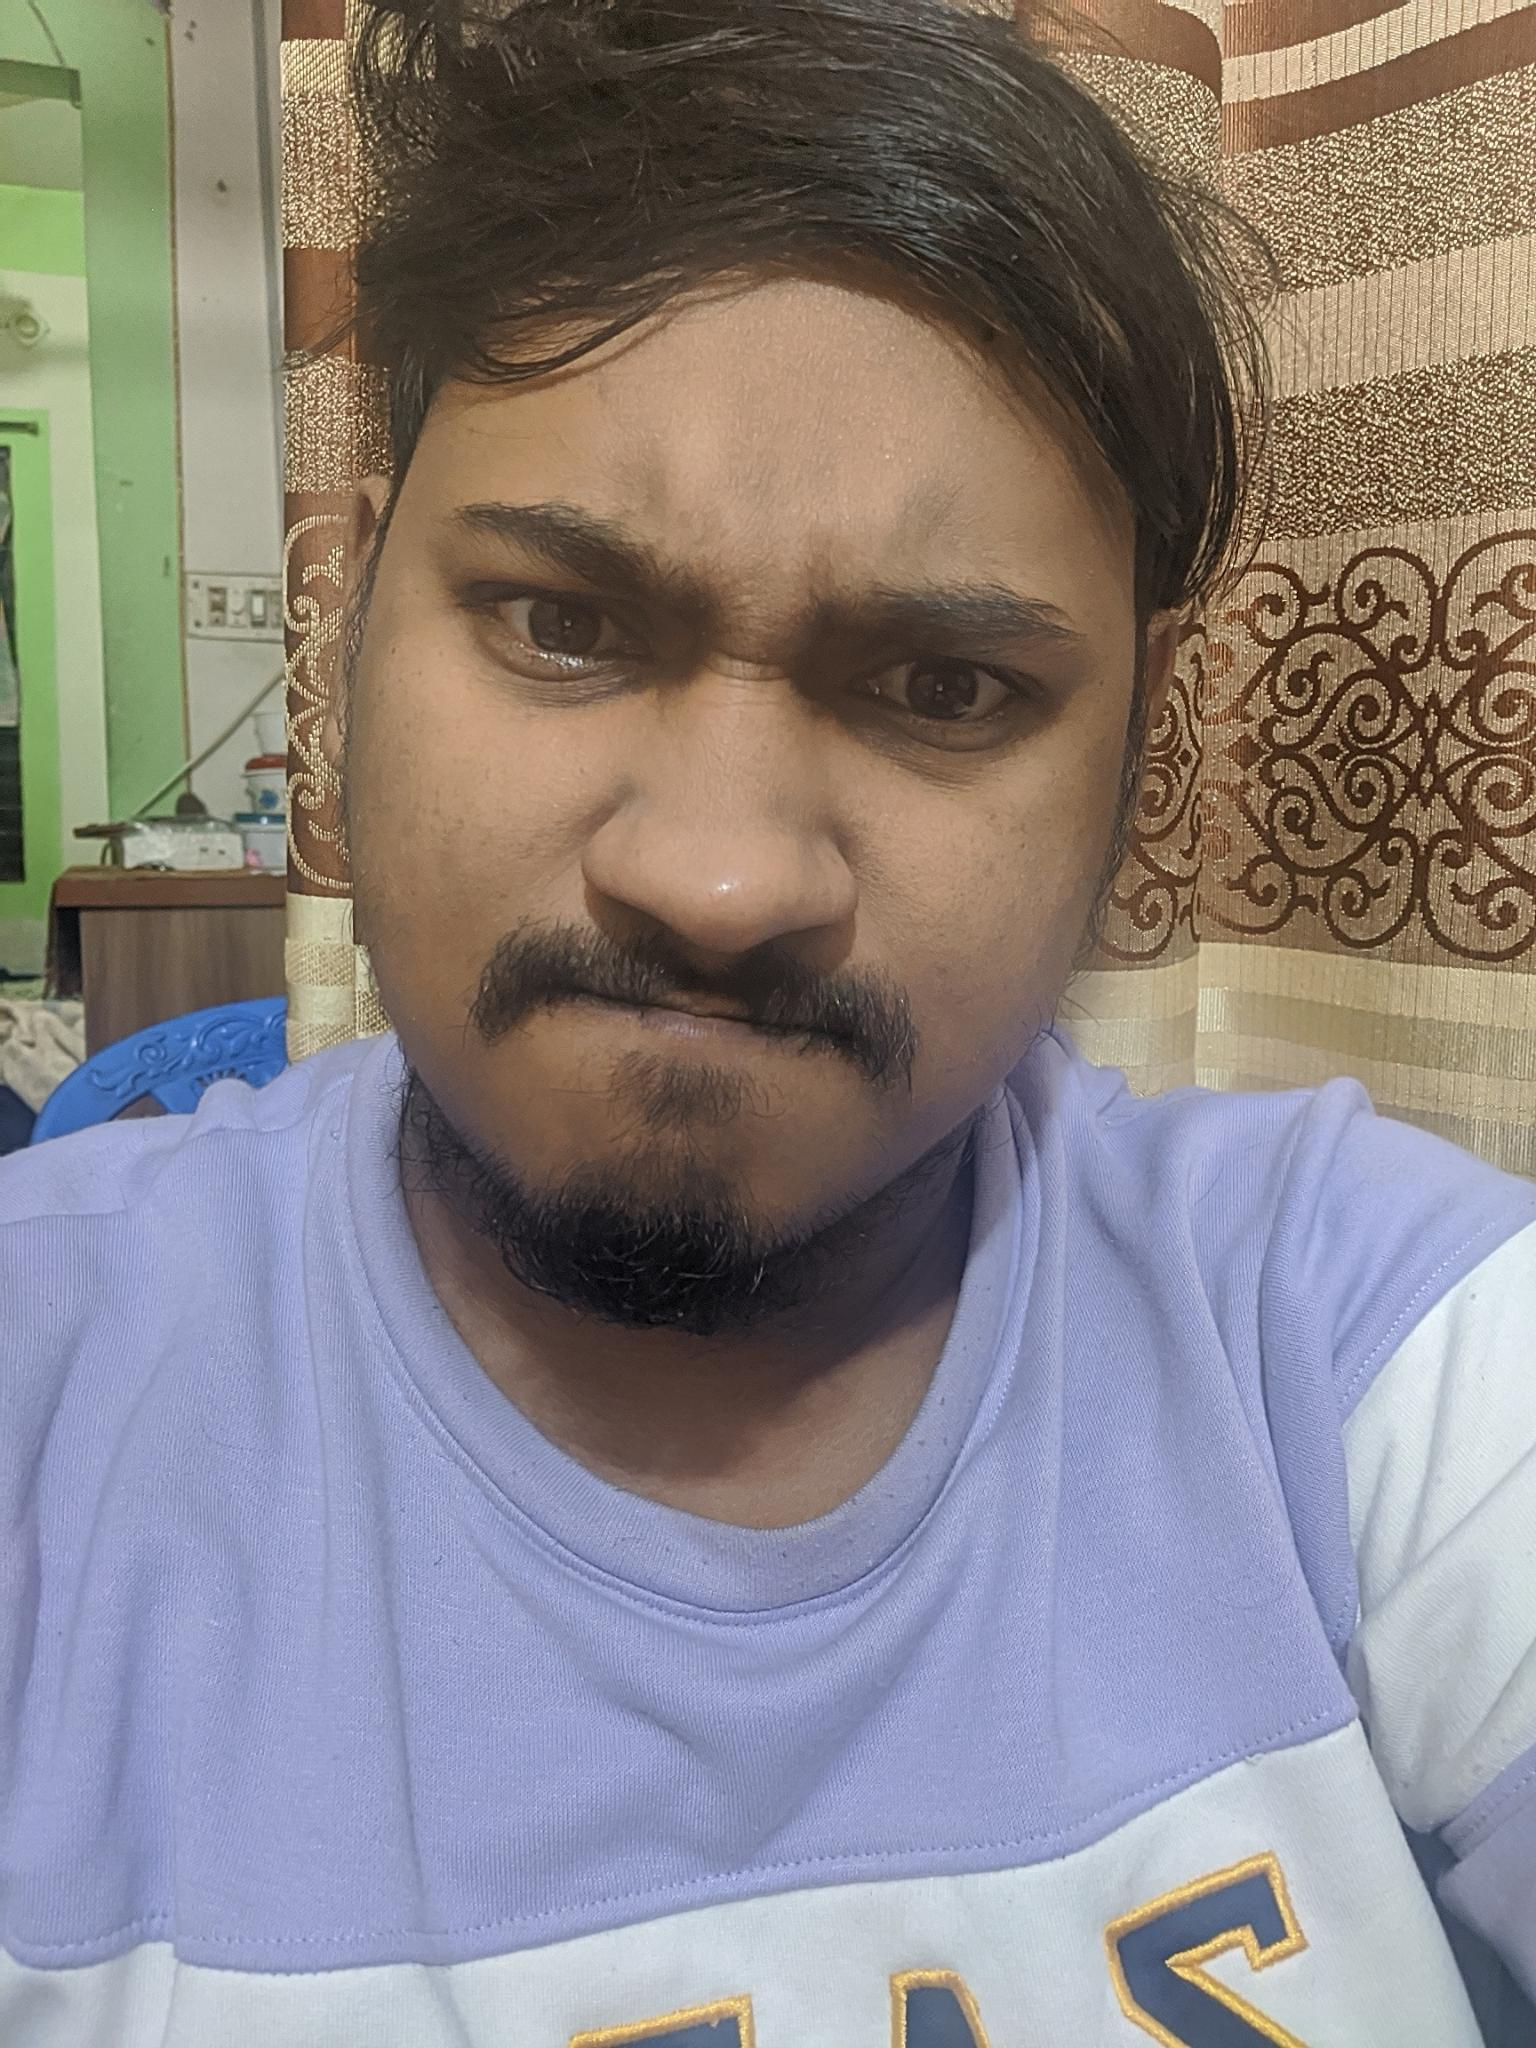Angry: (373, 366, 1120, 1155)
